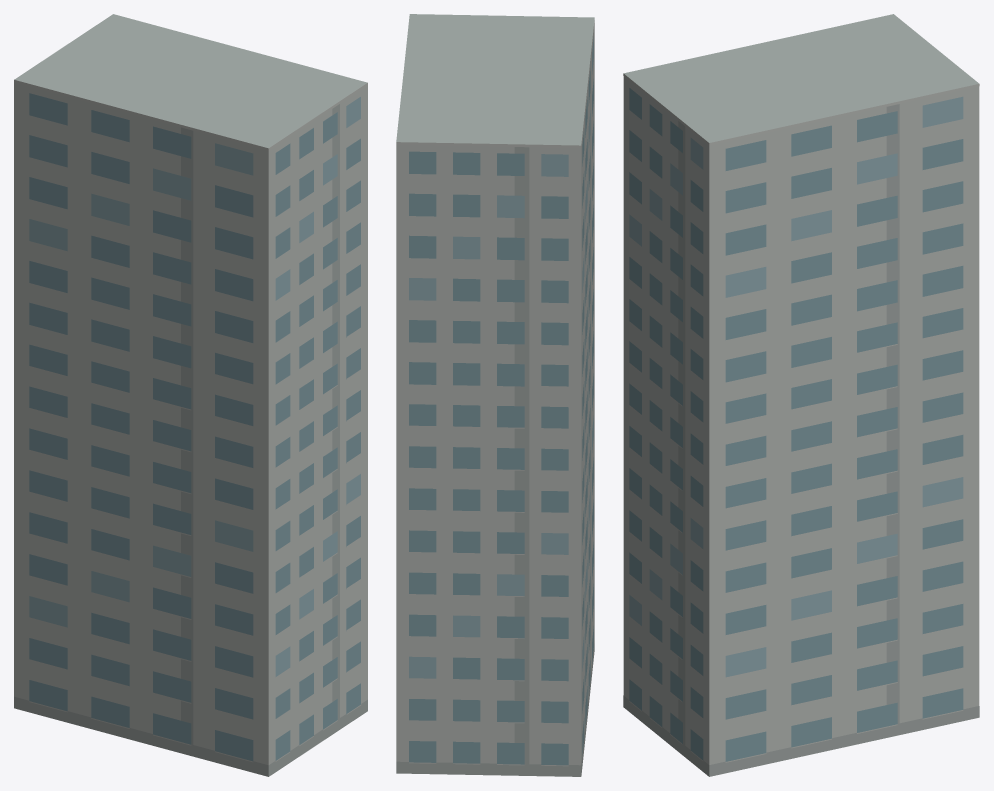
The model's file is residential-abec62ab-24ee-4da9-bda8-333acf91ce72.glb.
The picture shows the model from 3 angles, left to right: view 1: azimuth 30°, elevation 25°; view 2: azimuth 150°, elevation 25°; view 3: azimuth 270°, elevation 25°; orthographic projection.
Parts seen in each view (by area): view 1: residential-abec62ab-24ee-4da9-bda8-333acf91ce72.tmp; view 2: residential-abec62ab-24ee-4da9-bda8-333acf91ce72.tmp; view 3: residential-abec62ab-24ee-4da9-bda8-333acf91ce72.tmp.
Boxes of the visible parts, box(x1,y1,x2,y2) form: residential-abec62ab-24ee-4da9-bda8-333acf91ce72.tmp: box(14, 14, 367, 776); residential-abec62ab-24ee-4da9-bda8-333acf91ce72.tmp: box(396, 14, 594, 776); residential-abec62ab-24ee-4da9-bda8-333acf91ce72.tmp: box(623, 14, 979, 776).
Bounding box in the file's own units: 24.9 × 57 × 29.02.
